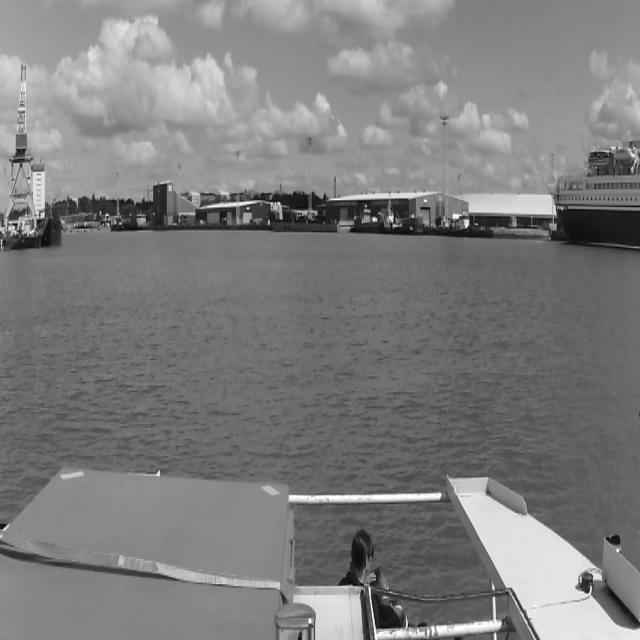ship: (549, 135, 640, 251), (371, 203, 427, 236), (436, 210, 478, 239)
